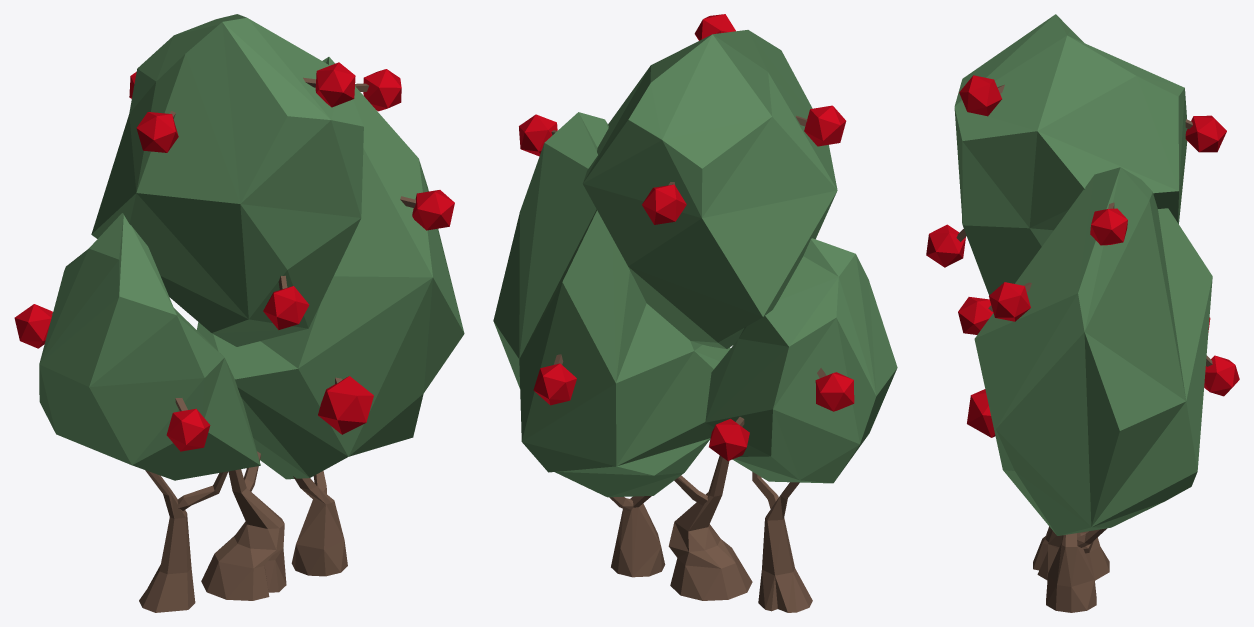
File: _bush_4.glb
3 renders of one model, left to right at view 1: azimuth 30°, elevation 25°; view 2: azimuth 150°, elevation 25°; view 3: azimuth 270°, elevation 25°, orthographic. The views are drawn at different scales.
Parts seen in each view (by area): view 1: bush_4; view 2: bush_4; view 3: bush_4.
Boxes of the visible parts, x1,y1,x2,y2 form: bush_4: (14, 14, 464, 612); bush_4: (493, 14, 897, 612); bush_4: (926, 14, 1239, 612).
Bounding box in the file's own units: 1.21 × 1.72 × 0.9053.
Materials: 1 (1 with a texture image).
